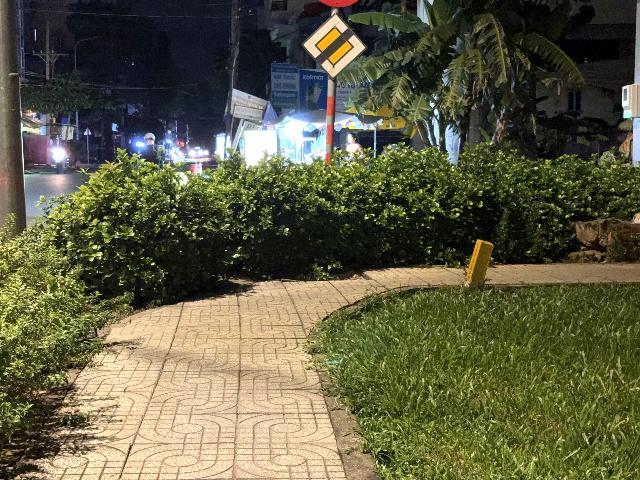het-duong-uu-tien: (300, 12, 369, 81)
